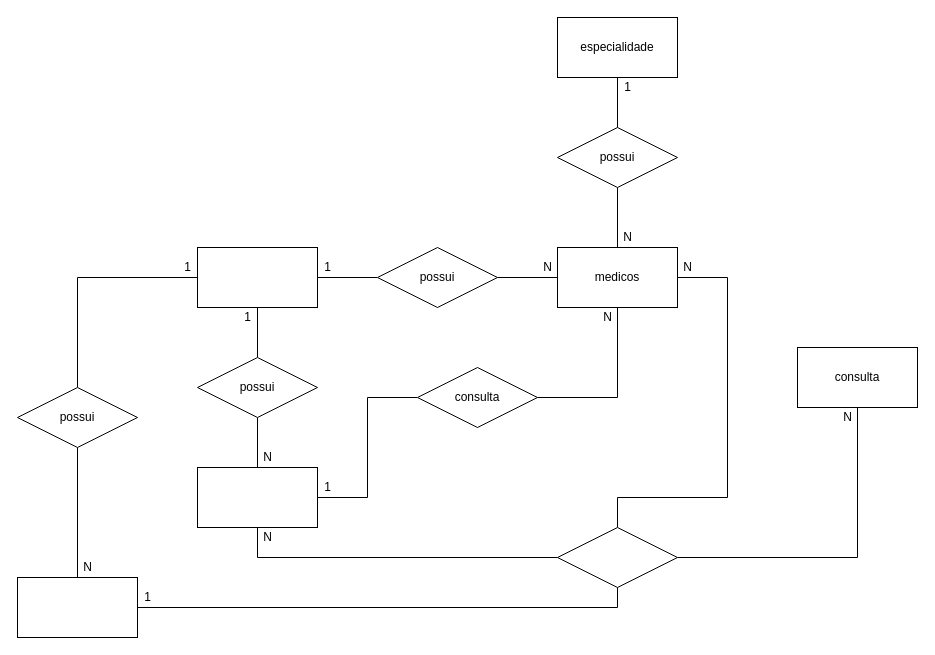
The diagram is 935 pixels wide and 655 high, and some of its shapes have lost their labels. The shapes that lost their labels are listed below. From the top down, each one's box as (x1, y1, x2, y2) in pixels, then its label:
(196, 246, 318, 308): clinica
(196, 466, 318, 528): pacientes
(556, 526, 678, 588): cadastra
(16, 576, 138, 638): administrador
